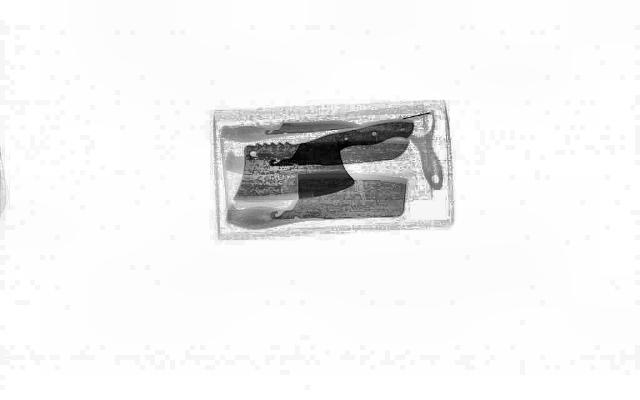Knife: (213, 118, 435, 206), (264, 117, 358, 135)
